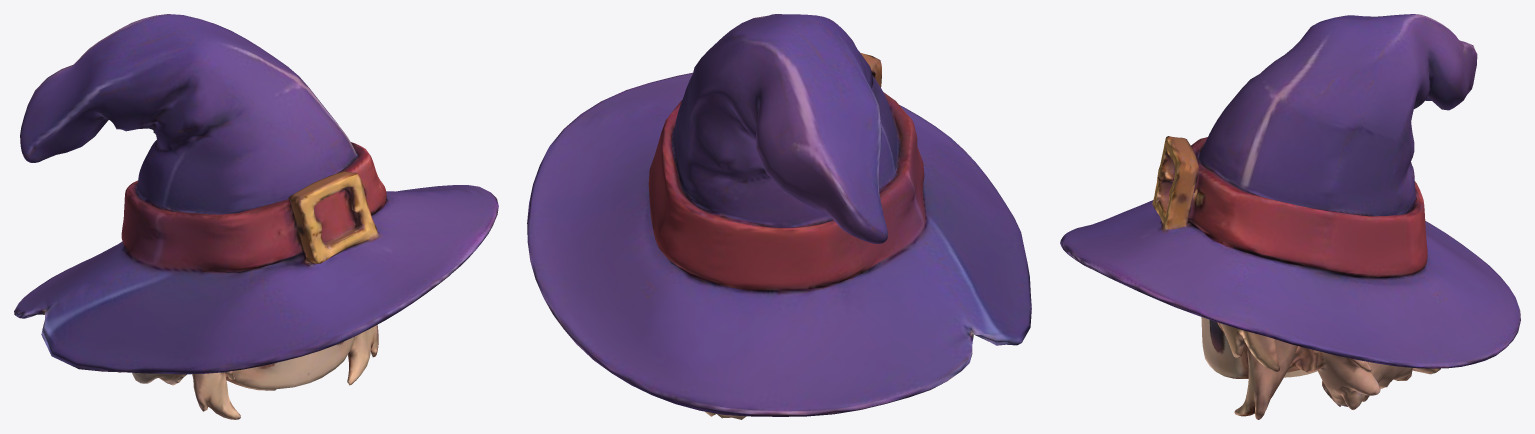
File: head_default.glb
3 renders of one model, left to right at view 1: azimuth 30°, elevation 25°; view 2: azimuth 150°, elevation 25°; view 3: azimuth 270°, elevation 25°, orthographic. The views are drawn at different scales.
Visible parts, largest first — view 1: HeadSet; view 2: HeadSet; view 3: HeadSet.
Boxes of the visible parts, <box> form: HeadSet: <box>14,14,498,419</box>; HeadSet: <box>527,14,1031,419</box>; HeadSet: <box>1060,14,1520,419</box>.
Bounding box in the file's own units: 0.7265 × 0.5585 × 0.6775.
Materials: 2 (1 with a texture image).
